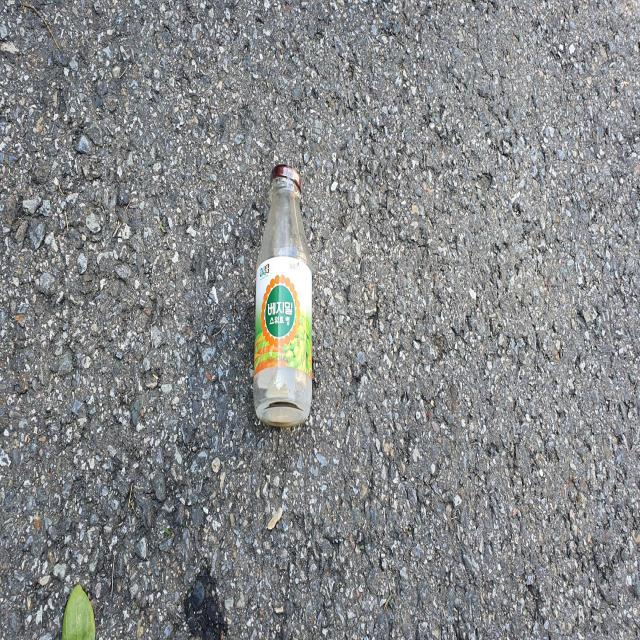glass: (253, 164, 313, 426)
